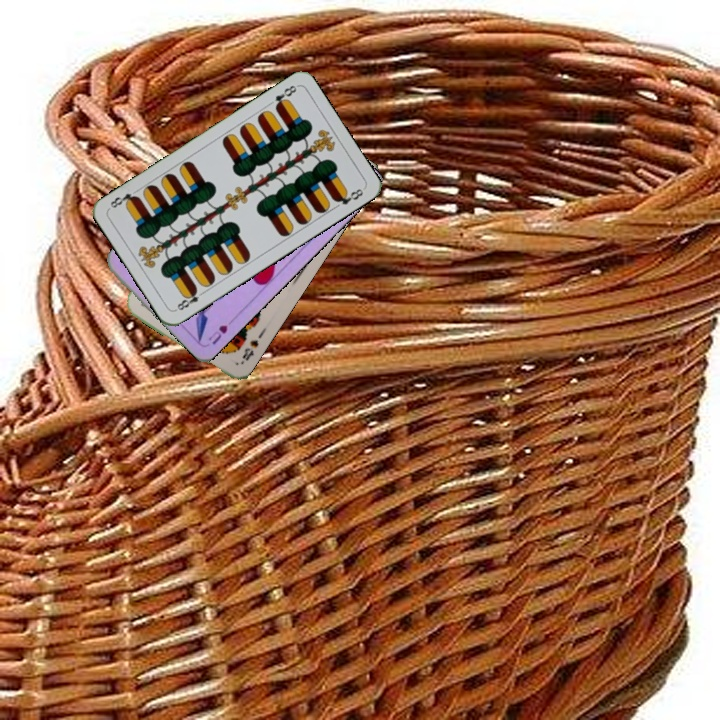E8: (171, 285, 208, 313), (270, 81, 300, 112)
HU: (204, 321, 230, 347)
S8: (236, 336, 261, 367)
